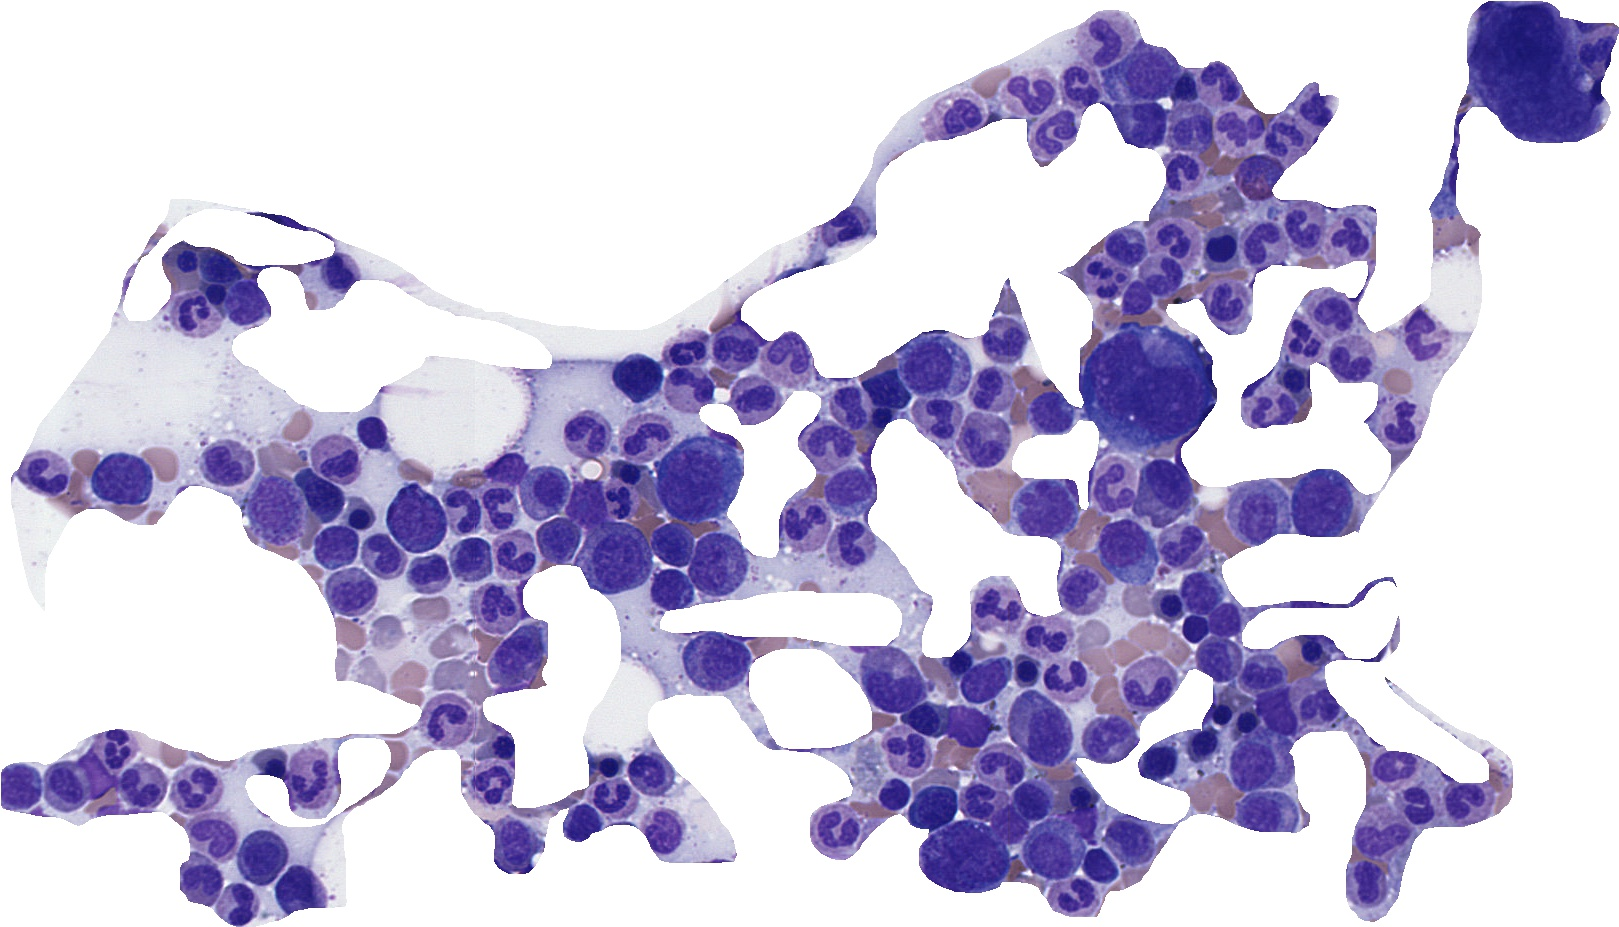objectness: (1232, 489, 1282, 539), (563, 403, 613, 453), (1325, 213, 1375, 263), (1368, 746, 1418, 796), (1208, 104, 1258, 154), (808, 804, 858, 854), (593, 475, 643, 525), (1203, 279, 1253, 329), (1277, 315, 1327, 365), (1087, 463, 1138, 514), (666, 362, 716, 412), (89, 722, 139, 772), (951, 778, 1001, 828), (663, 323, 713, 373), (881, 722, 931, 772), (289, 762, 339, 813), (618, 413, 668, 463), (1053, 59, 1103, 109), (1399, 313, 1449, 363), (1025, 108, 1075, 158), (470, 754, 520, 804), (781, 504, 831, 554), (1024, 612, 1074, 662), (1154, 217, 1204, 267), (975, 738, 1025, 788), (1244, 386, 1294, 436), (470, 578, 520, 628), (19, 450, 69, 500), (1397, 778, 1447, 828), (1011, 71, 1061, 121), (763, 329, 813, 379), (1378, 403, 1428, 453), (928, 87, 979, 137), (439, 485, 489, 535), (420, 688, 470, 738), (1192, 58, 1242, 108), (1282, 206, 1332, 256), (1052, 874, 1102, 924), (1154, 144, 1204, 195), (1138, 250, 1188, 300), (1122, 661, 1172, 711), (803, 416, 853, 466), (489, 535, 539, 585), (168, 285, 218, 335), (1436, 776, 1486, 826), (588, 774, 638, 824), (1236, 218, 1287, 268), (825, 201, 875, 251), (1042, 657, 1092, 707), (173, 765, 224, 815), (1080, 253, 1130, 303), (475, 482, 525, 532), (1259, 109, 1309, 159), (328, 567, 378, 617), (1238, 737, 1288, 787), (488, 631, 538, 681), (1241, 791, 1291, 841), (489, 820, 539, 870), (1106, 813, 1156, 863), (534, 516, 584, 566), (447, 536, 497, 586), (1194, 632, 1244, 682), (41, 761, 91, 811), (1057, 566, 1108, 616), (1016, 705, 1066, 755), (275, 864, 325, 914), (235, 830, 285, 880), (1231, 150, 1281, 200), (312, 246, 362, 296), (959, 418, 1009, 468), (357, 529, 407, 579), (175, 851, 225, 901), (823, 520, 873, 570), (911, 392, 961, 442), (197, 439, 247, 489), (1340, 857, 1390, 907), (1310, 287, 1360, 337), (1290, 677, 1340, 727), (1086, 16, 1136, 66), (728, 376, 778, 426), (190, 808, 240, 858), (640, 809, 691, 859), (117, 762, 167, 813), (1100, 223, 1150, 273), (1085, 712, 1135, 762), (967, 363, 1017, 413), (1325, 333, 1375, 383), (830, 381, 880, 431), (404, 549, 454, 599), (979, 319, 1029, 369), (707, 323, 757, 373), (628, 746, 678, 796), (1234, 649, 1284, 699), (1020, 487, 1070, 537), (389, 497, 439, 547), (95, 453, 145, 504), (1290, 480, 1340, 530), (983, 801, 1033, 851), (560, 480, 610, 530), (942, 701, 992, 751), (1060, 795, 1110, 845), (820, 466, 870, 516), (1196, 222, 1246, 272), (1105, 526, 1155, 576), (649, 518, 699, 568), (1250, 688, 1300, 738), (190, 270, 240, 320), (1358, 808, 1408, 858), (1169, 604, 1219, 654), (556, 795, 606, 845), (1119, 49, 1169, 99), (522, 467, 572, 517), (1201, 596, 1251, 646), (1120, 96, 1170, 146), (1161, 62, 1211, 112), (480, 443, 530, 494), (70, 750, 120, 800), (963, 654, 1013, 704), (1175, 566, 1225, 616), (347, 407, 397, 457), (1076, 841, 1126, 891), (1030, 823, 1080, 873), (647, 567, 697, 617), (866, 769, 916, 819), (1025, 390, 1075, 440), (309, 521, 359, 571), (1108, 275, 1158, 325), (222, 275, 272, 325), (1007, 772, 1057, 823), (614, 351, 664, 401), (936, 638, 986, 688), (1196, 689, 1246, 739), (582, 742, 632, 793), (1220, 698, 1270, 748), (856, 391, 906, 441), (908, 783, 959, 833), (334, 492, 384, 542), (250, 738, 300, 788), (1003, 649, 1053, 699), (904, 692, 954, 742), (295, 472, 345, 522), (1135, 736, 1185, 786), (1180, 720, 1230, 770), (476, 722, 526, 772), (1287, 625, 1337, 675), (160, 237, 210, 287), (604, 447, 654, 497), (1053, 770, 1103, 820), (190, 245, 240, 295), (861, 366, 911, 416), (941, 828, 991, 878), (588, 535, 638, 585), (692, 540, 742, 590), (692, 637, 742, 687), (1499, 51, 1549, 101), (671, 459, 721, 509), (1113, 363, 1163, 413), (969, 584, 1019, 632), (870, 652, 918, 702), (1138, 463, 1186, 514), (213, 878, 264, 927), (1158, 519, 1206, 569), (1145, 584, 1195, 632), (0, 761, 47, 811)
